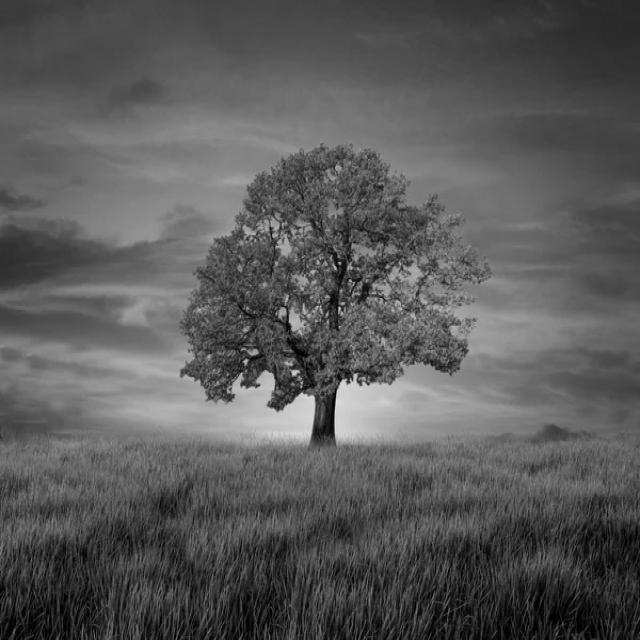Tree: (181, 144, 492, 444)
